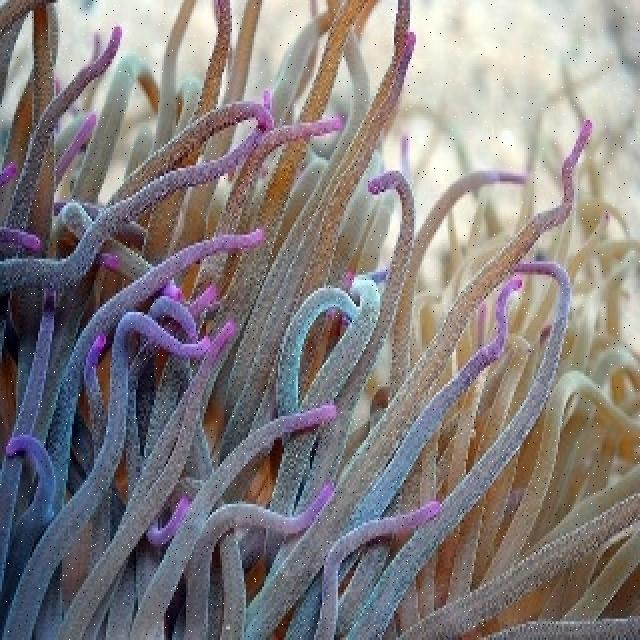reefs: (0, 0, 638, 637)
